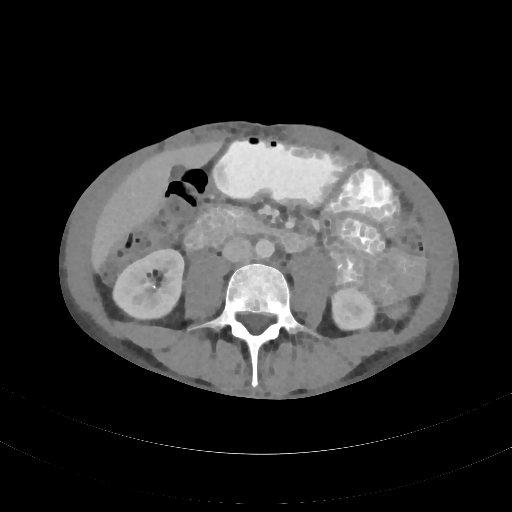Lesion: (148, 281, 160, 294)
